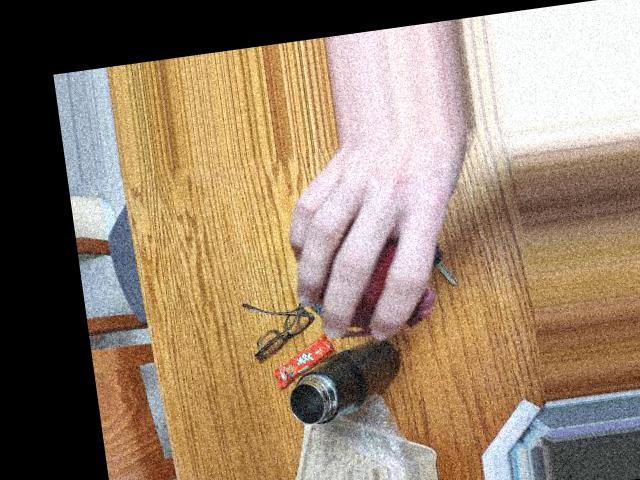onion: (294, 211, 437, 323)
